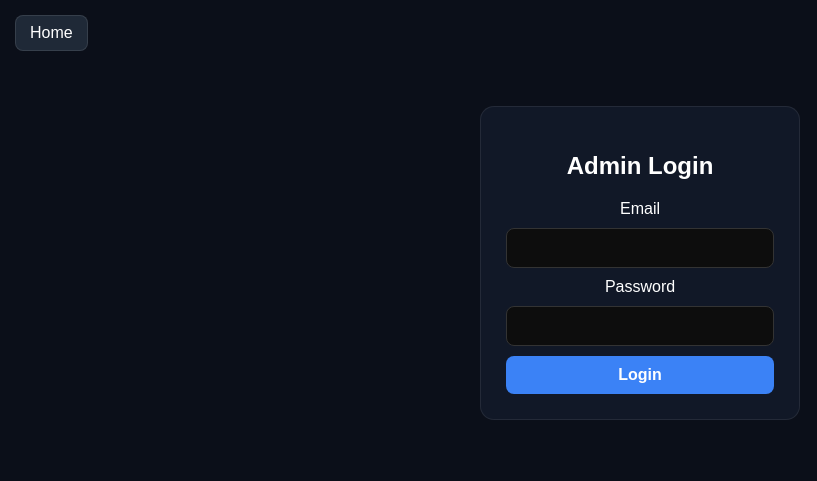
admin authentication › submits login using Enter/form submission and displays authentication errors
Type "admin@example.com" into the field labelled "Email" at (640, 248), box [506,228,774,268]
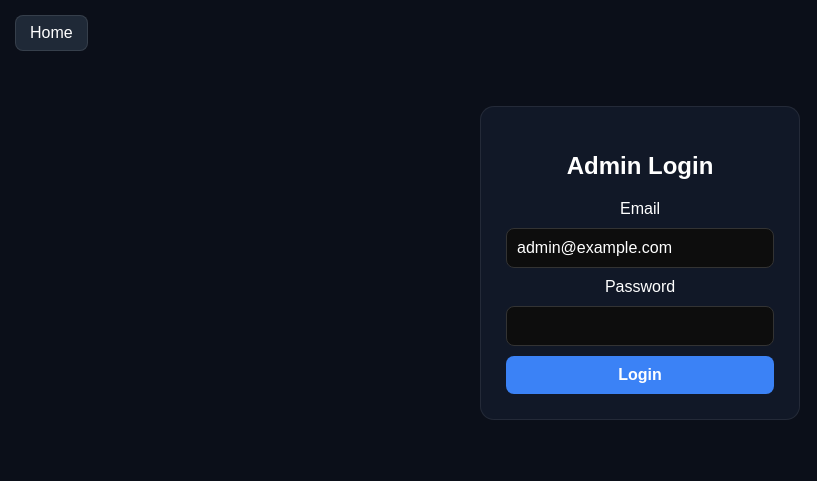
Type "wrong" into the password field labelled "Password" at (640, 326), box [506,306,774,346]
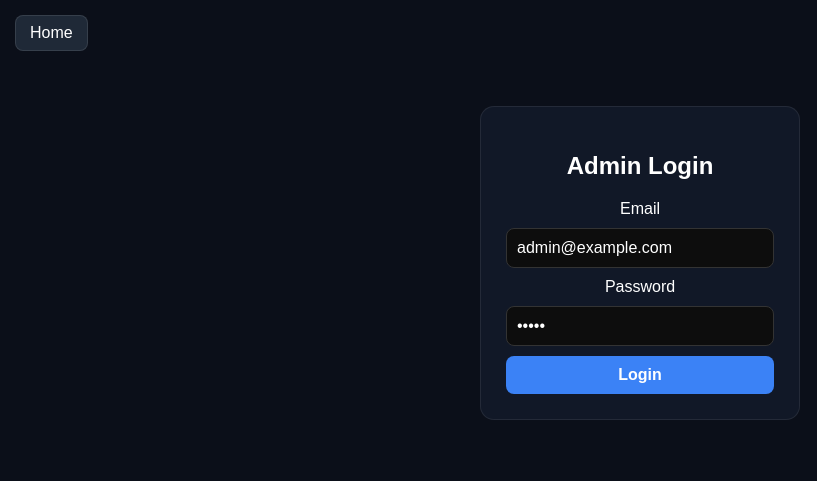
Submit the form "Login", box [480,106,800,420]
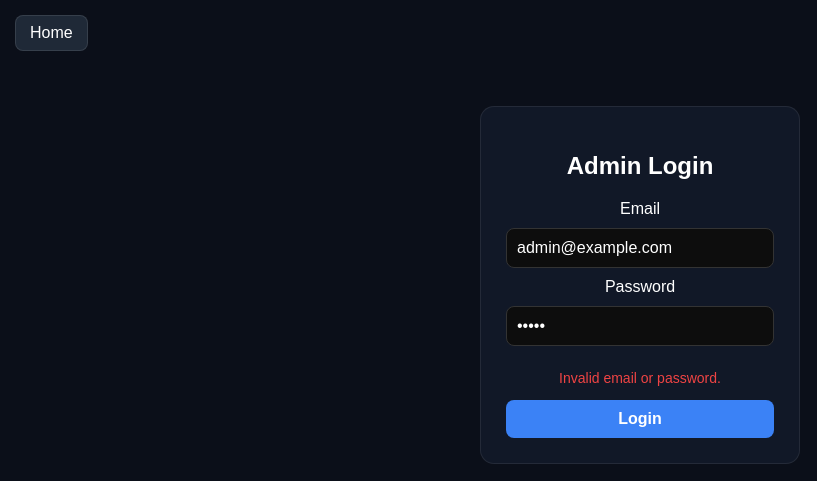
Expected: the message shows "Invalid email or password", [559,370,721,386]
